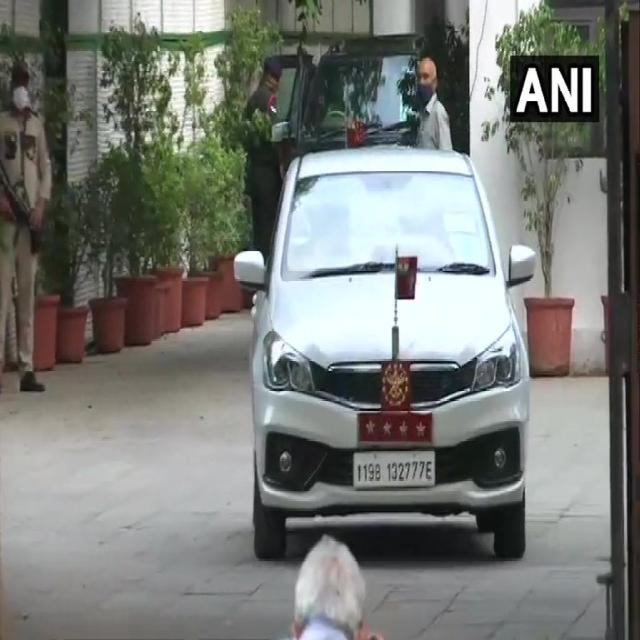military-plate: (354, 450, 436, 489)
